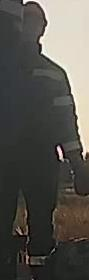gloves: (68, 148, 89, 197)
helmet: (23, 0, 48, 26)
vest: (17, 50, 76, 156)
